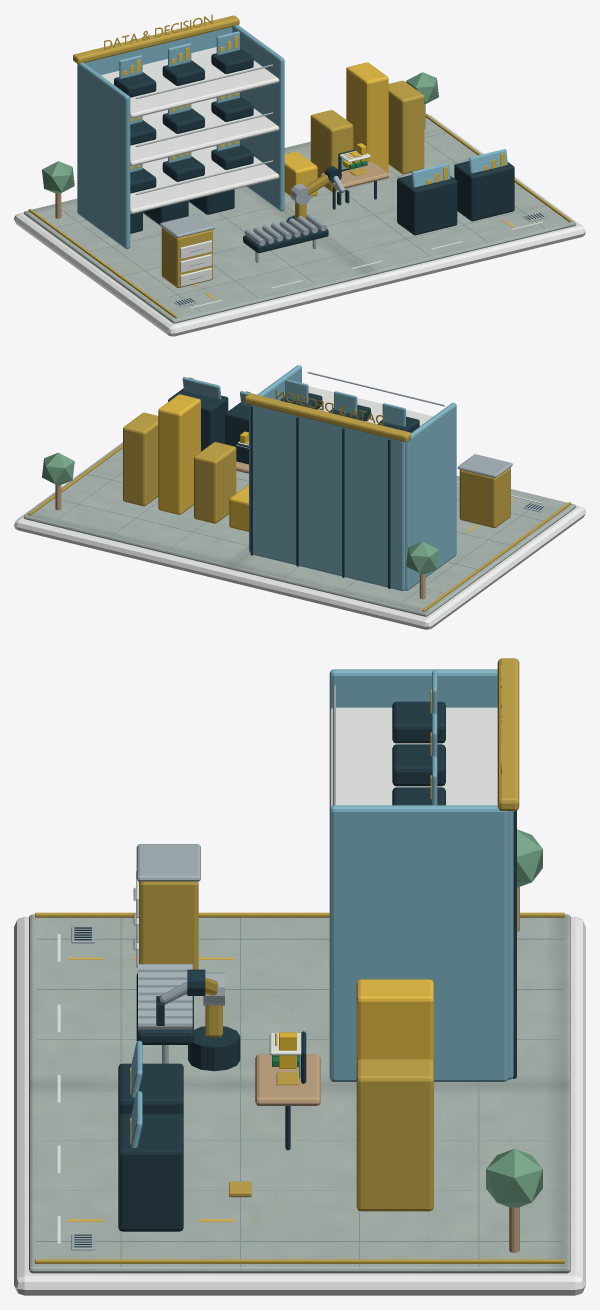
The model's file is powerbi.glb.
3 views of the same model, one above another, from view 1: azimuth 30°, elevation 25°; view 2: azimuth 150°, elevation 25°; view 3: azimuth 270°, elevation 25° (orthographic). The views are drawn at different scales.
Visible parts, largest first — view 1: Activity ground, StaticWorkshop_0, StaticWorkshop_1, StaticWorkshop_3, StaticWorkshop_2, Dashboard metric.002, Dashboard metric.003, Dashboard metric.001, StaticWorkshop_8, StaticWorkshop_7, StaticWorkshop_5, Dashboard metric (+2 smaller); view 2: StaticWorkshop_1, Activity ground, StaticWorkshop_0, StaticWorkshop_2, StaticWorkshop_3, Dashboard metric.002, Dashboard metric.003, Dashboard metric.001, StaticWorkshop_7, StaticWorkshop_8, StaticWorkshop_5, Dashboard metric (+1 smaller); view 3: Activity ground, StaticWorkshop_1, StaticWorkshop_0, StaticWorkshop_3, StaticWorkshop_2, Dashboard metric.003, Dashboard metric.002, StaticWorkshop_7, StaticWorkshop_8, StaticWorkshop_5, StaticWorkshop_4, Aggregation mounting.
Boxes of the visible parts, x1=… form: Activity ground: x1=24, y1=113, x2=576, y2=323; StaticWorkshop_0: x1=14, y1=47, x2=585, y2=336; StaticWorkshop_1: x1=77, y1=25, x2=507, y2=248; StaticWorkshop_3: x1=114, y1=48, x2=543, y2=305; StaticWorkshop_2: x1=28, y1=14, x2=571, y2=318; Dashboard metric.002: x1=346, y1=62, x2=388, y2=182; Dashboard metric.003: x1=388, y1=80, x2=424, y2=174; Dashboard metric.001: x1=310, y1=110, x2=353, y2=191; StaticWorkshop_8: x1=135, y1=64, x2=546, y2=306; StaticWorkshop_7: x1=42, y1=72, x2=438, y2=193; StaticWorkshop_5: x1=50, y1=131, x2=549, y2=311; Dashboard metric: x1=284, y1=151, x2=317, y2=196; StaticWorkshop_1: x1=182, y1=365, x2=456, y2=590; Activity ground: x1=23, y1=444, x2=576, y2=616; StaticWorkshop_0: x1=14, y1=386, x2=585, y2=629; StaticWorkshop_2: x1=28, y1=389, x2=571, y2=611; StaticWorkshop_3: x1=168, y1=388, x2=543, y2=588; Dashboard metric.002: x1=158, y1=394, x2=200, y2=514; Dashboard metric.003: x1=123, y1=412, x2=158, y2=506; Dashboard metric.001: x1=194, y1=442, x2=236, y2=523; StaticWorkshop_7: x1=42, y1=452, x2=438, y2=574; StaticWorkshop_8: x1=307, y1=371, x2=546, y2=512; StaticWorkshop_5: x1=54, y1=448, x2=549, y2=604; Dashboard metric: x1=229, y1=484, x2=248, y2=531; Activity ground: x1=29, y1=914, x2=570, y2=1273; StaticWorkshop_1: x1=131, y1=669, x2=513, y2=1147; StaticWorkshop_0: x1=14, y1=707, x2=585, y2=1295; StaticWorkshop_3: x1=74, y1=701, x2=516, y2=1247; StaticWorkshop_2: x1=35, y1=658, x2=564, y2=1263; Dashboard metric.003: x1=356, y1=1059, x2=433, y2=1211; Dashboard metric.002: x1=356, y1=979, x2=433, y2=1062; StaticWorkshop_7: x1=486, y1=829, x2=542, y2=1207; StaticWorkshop_8: x1=71, y1=685, x2=335, y2=1250; StaticWorkshop_5: x1=36, y1=917, x2=563, y2=1266; StaticWorkshop_4: x1=255, y1=887, x2=519, y2=1252; Aggregation mounting: x1=188, y1=1026, x2=240, y2=1071.
Size of the model in its own units: 7.3 by 3.06 by 4.8.
Materials: 17 (1 with a texture image).
